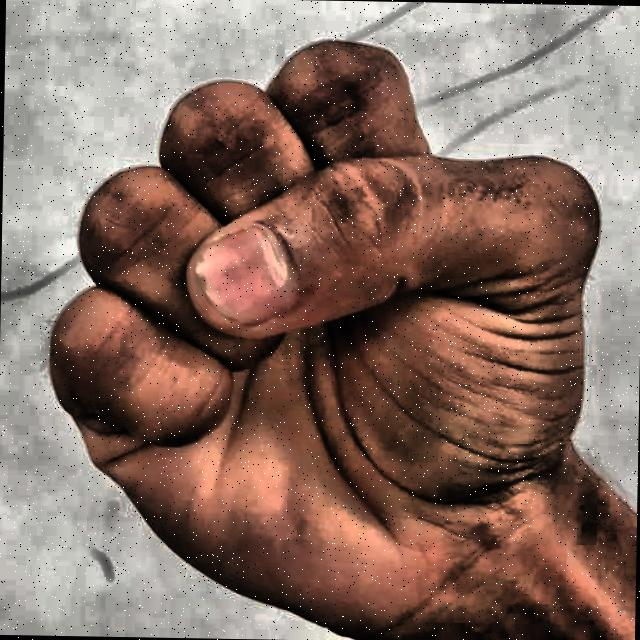Sha: (35, 22, 621, 635)
